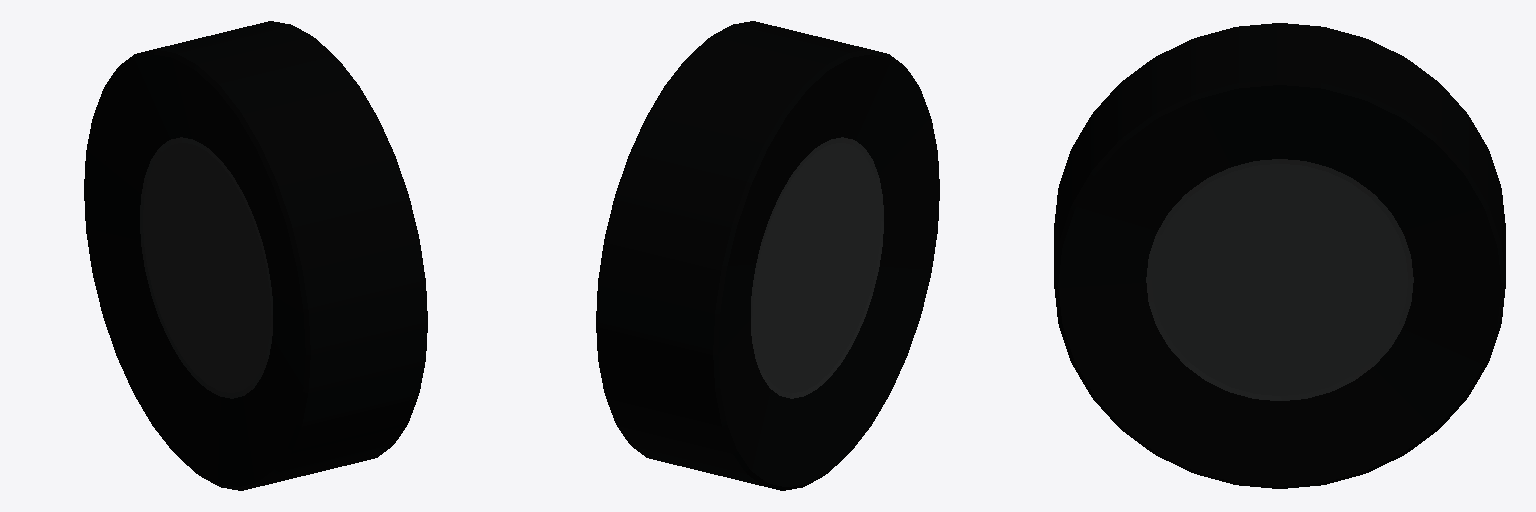
File: wheel.obj
The picture shows the model from 3 angles: view 1: azimuth 30°, elevation 25°; view 2: azimuth 150°, elevation 25°; view 3: azimuth 270°, elevation 25°; orthographic projection.
Visible parts, largest first — view 1: Circle; view 2: Circle; view 3: Circle.
Boxes of the visible parts, <box> form: Circle: <box>84,21,427,490</box>; Circle: <box>596,21,939,490</box>; Circle: <box>1054,23,1505,488</box>.
Bounding box in the file's own units: 0.0755 × 0.2412 × 0.2412.